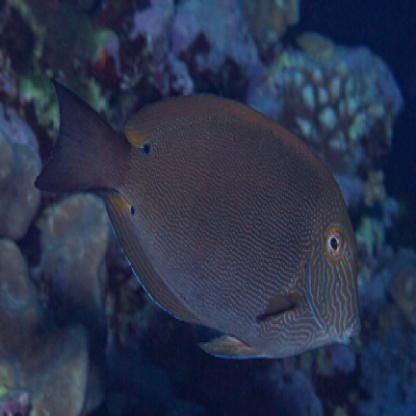surgeon: (33, 75, 364, 361)
